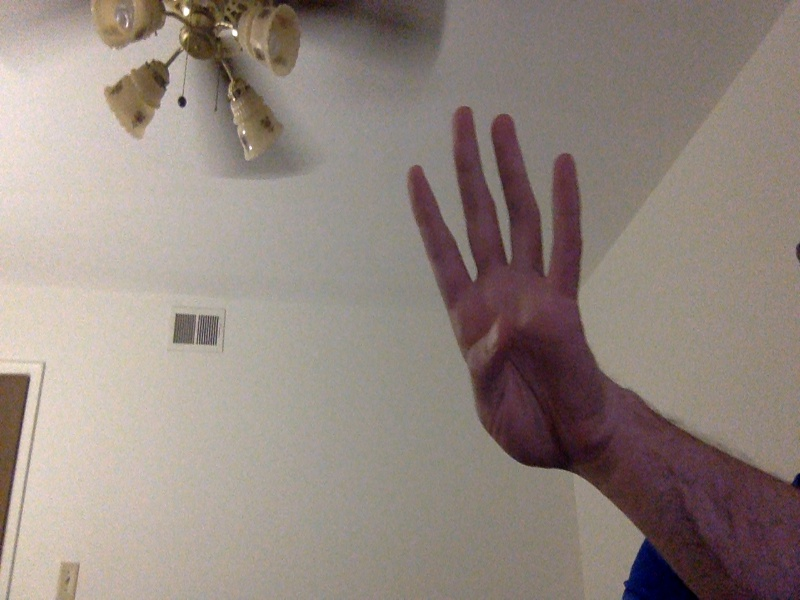4-hand: (406, 109, 598, 470)
